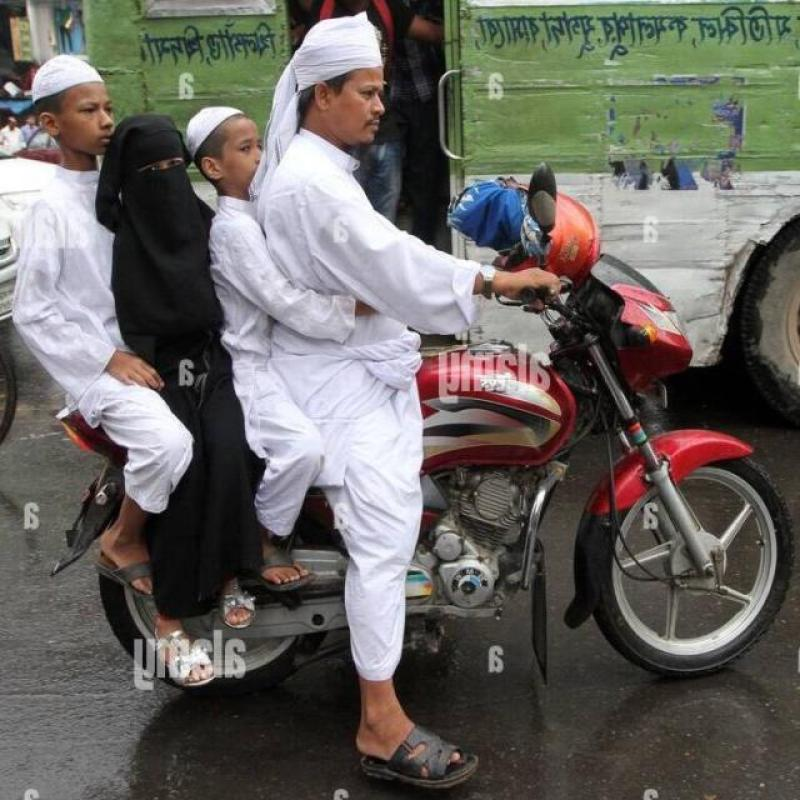nohelmet: (292, 0, 402, 158), (35, 37, 124, 175)
